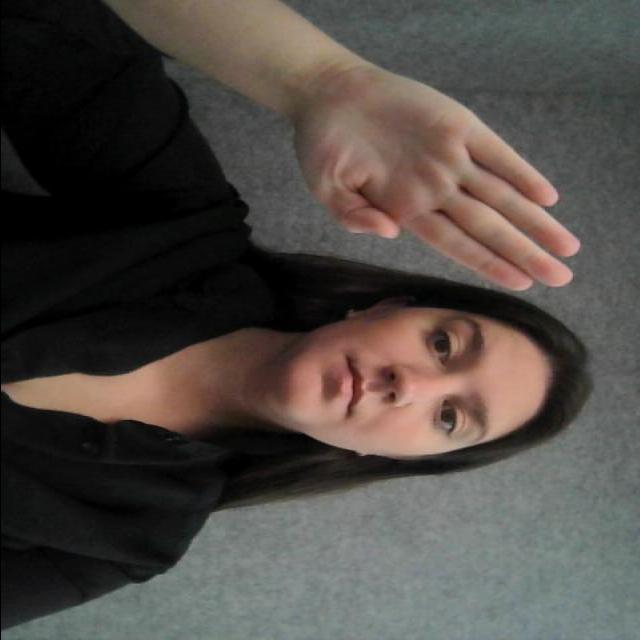Paper: (299, 76, 581, 295)
